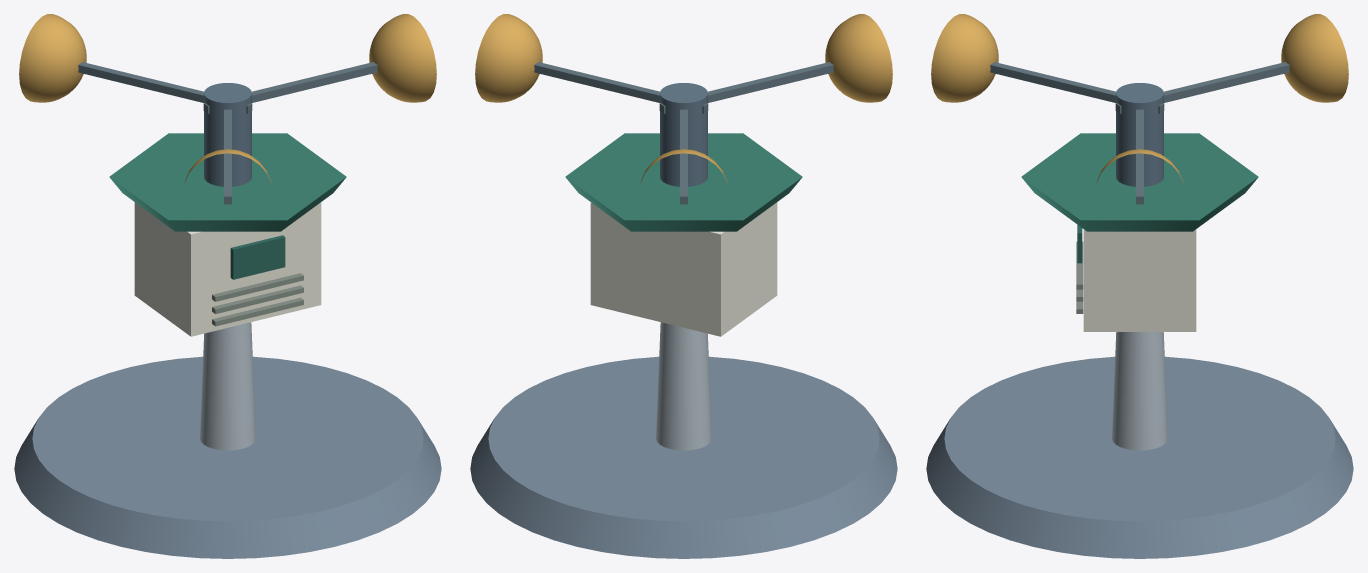
File: weather-station.glb
3 renders of one model, left to right at view 1: azimuth 30°, elevation 25°; view 2: azimuth 150°, elevation 25°; view 3: azimuth 270°, elevation 25°, orthographic.
Parts seen in each view (by area): view 1: foundation-0, hood-0, sensor-0, mast-0, rotor-2, rotor-6, rotor-0, sensor-1, rotor-1, rotor-5, sensor-2, sensor-3 (+2 smaller); view 2: foundation-0, sensor-0, hood-0, mast-0, rotor-2, rotor-4, rotor-0, rotor-1, rotor-3, rotor-5; view 3: foundation-0, hood-0, sensor-0, mast-0, rotor-4, rotor-6, rotor-0, rotor-3, rotor-5, rotor-1.
Part boxes in pixels (box(x1,y1,x2,y2)): foundation-0: box(14, 356, 441, 558); hood-0: box(109, 133, 346, 231); sensor-0: box(134, 202, 321, 336); mast-0: box(200, 322, 255, 450); rotor-2: box(369, 14, 436, 102); rotor-6: box(19, 14, 86, 102); rotor-0: box(204, 83, 251, 186); sensor-1: box(230, 235, 285, 279); rotor-1: box(203, 62, 377, 113); rotor-5: box(78, 62, 252, 113); sensor-2: box(212, 273, 303, 301); sensor-3: box(212, 285, 303, 314); foundation-0: box(470, 356, 897, 558); sensor-0: box(590, 202, 777, 336); hood-0: box(565, 133, 802, 231); mast-0: box(656, 322, 711, 450); rotor-2: box(475, 14, 542, 102); rotor-4: box(825, 14, 892, 102); rotor-0: box(660, 83, 707, 186); rotor-1: box(534, 62, 708, 113); rotor-3: box(659, 62, 833, 113); rotor-5: box(680, 109, 687, 204); foundation-0: box(926, 356, 1353, 558); hood-0: box(1021, 133, 1258, 231); sensor-0: box(1083, 229, 1196, 331); mast-0: box(1112, 332, 1167, 450); rotor-4: box(931, 14, 998, 102); rotor-6: box(1281, 14, 1348, 102); rotor-0: box(1116, 83, 1163, 186); rotor-3: box(990, 62, 1164, 113); rotor-5: box(1115, 62, 1289, 113); rotor-1: box(1136, 109, 1143, 204).
Bounding box in the file's own units: 2.95 × 2.98 × 2.84.
